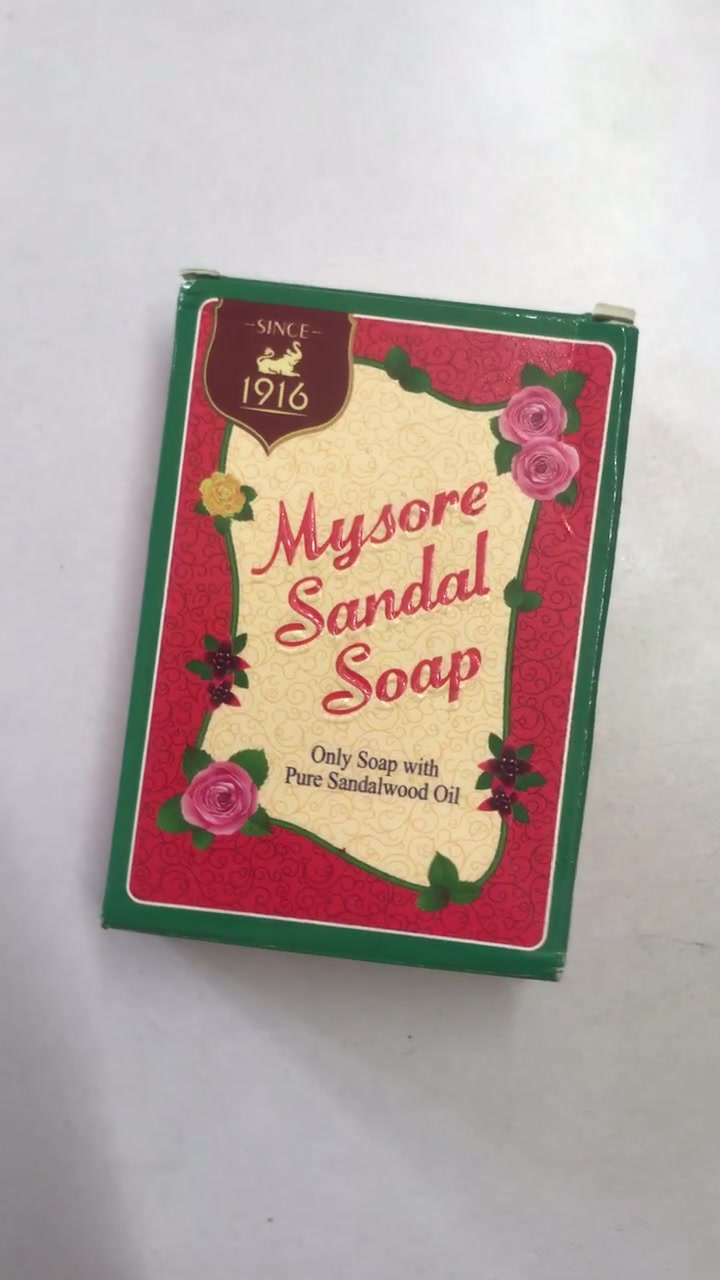mysore sandal soap: (102, 275, 635, 987)
